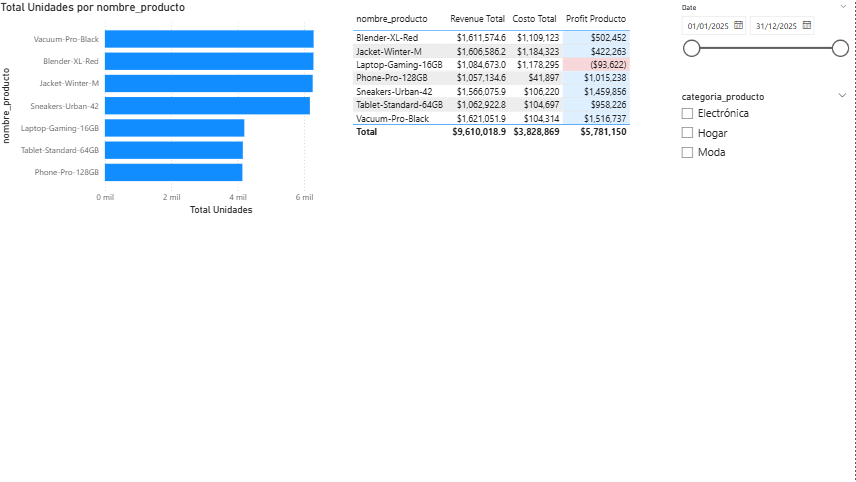

Layout of this report page (visuals, bound fields, positions):
{"tool":"powerbi","page":{"name":"Drill-through","canvas":[1280,720],"ordinal":1},"visuals":[{"type":"tableEx","fields":{"Values":["catalog_clean.nombre_producto","_Medidas.Revenue Total","_Medidas.Costo Total","_Medidas.Profit Producto"]},"box":[526,14,482.3,312.2],"z":0},{"type":"clusteredBarChart","fields":{"Category":["catalog_clean.nombre_producto"],"Y":["_Medidas.Total Unidades"]},"box":[0,0,526,326.2],"z":1},{"type":"slicer","fields":{"Values":["catalog_clean.categoria_producto"]},"box":[1008.4,131.1,271.6,173.3],"z":2},{"type":"slicer","fields":{"Values":["dim_fecha.Date"]},"box":[1008.4,0,271.6,112.4],"z":3}]}

Visuals, with their boxes in screenshot pixels (x1, y1, x2, y2), scaled from the page's 1280x720 canvas onto the 856x482 screenshot:
tableEx - catalog_clean.nombre_producto x _Medidas.Revenue Total: x1=352 y1=9 x2=674 y2=218
clusteredBarChart - catalog_clean.nombre_producto x _Medidas.Total Unidades: x1=0 y1=0 x2=352 y2=218
slicer - catalog_clean.categoria_producto: x1=674 y1=88 x2=855 y2=204
slicer - dim_fecha.Date: x1=674 y1=0 x2=855 y2=75
